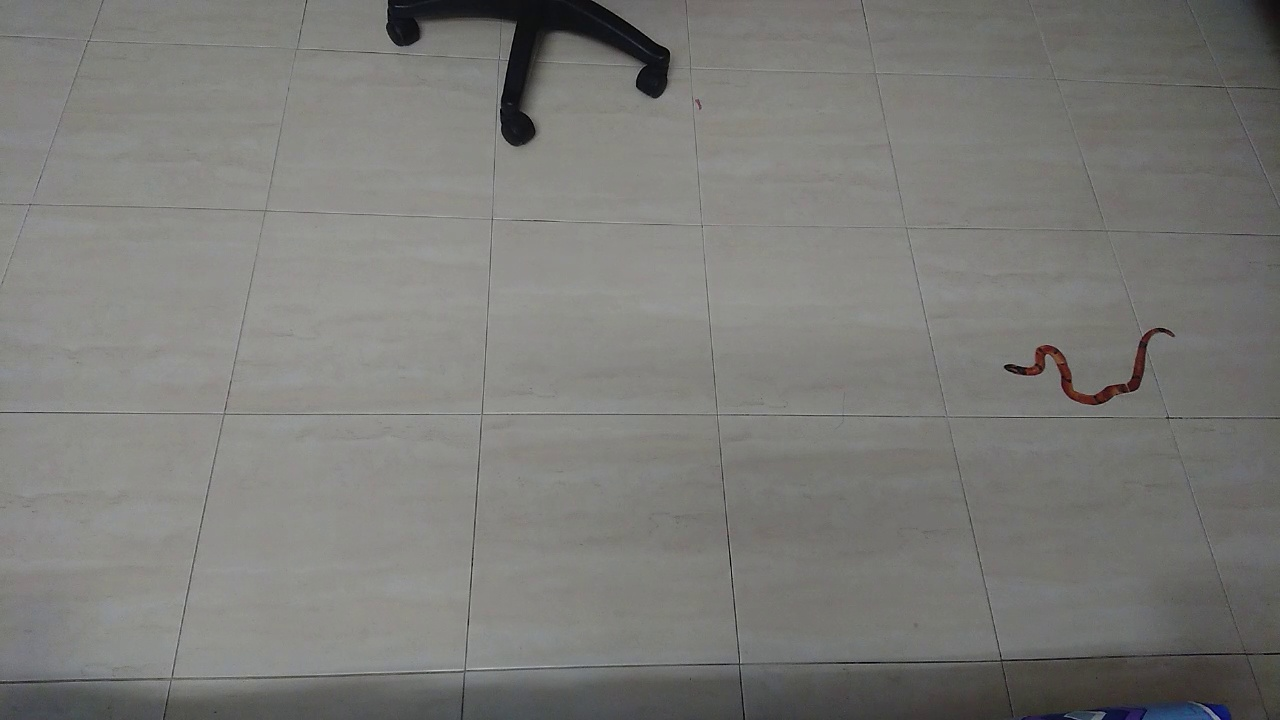snake: (986, 313, 1183, 420)
